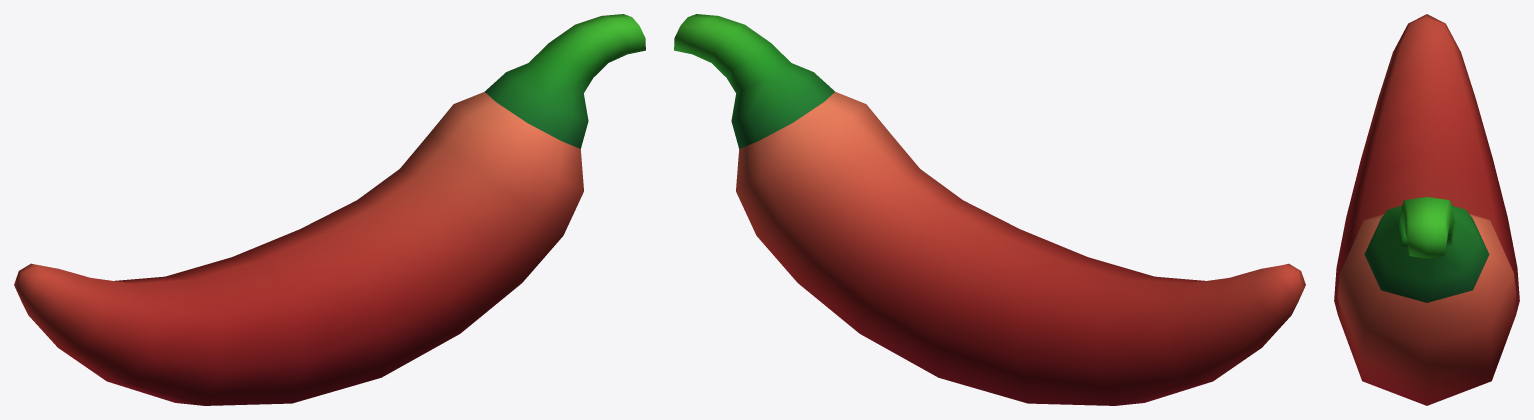
The model's file is Chili_Pepper_01.glb.
The picture shows the model from 3 angles, left to right: view 1: azimuth 30°, elevation 25°; view 2: azimuth 150°, elevation 25°; view 3: azimuth 270°, elevation 25°; orthographic projection. The views are drawn at different scales.
Parts seen in each view (by area): view 1: Chili_Pepper_01; view 2: Chili_Pepper_01; view 3: Chili_Pepper_01.
Boxes of the visible parts, box(x1,y1,x2,y2) form: Chili_Pepper_01: box(14, 14, 645, 405); Chili_Pepper_01: box(674, 14, 1305, 405); Chili_Pepper_01: box(1334, 14, 1519, 405).
Bounding box in the file's own units: 0.4574 × 0.2076 × 0.1089.
Materials: 1 (1 with a texture image).
